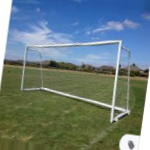goals: (19, 38, 134, 125)
